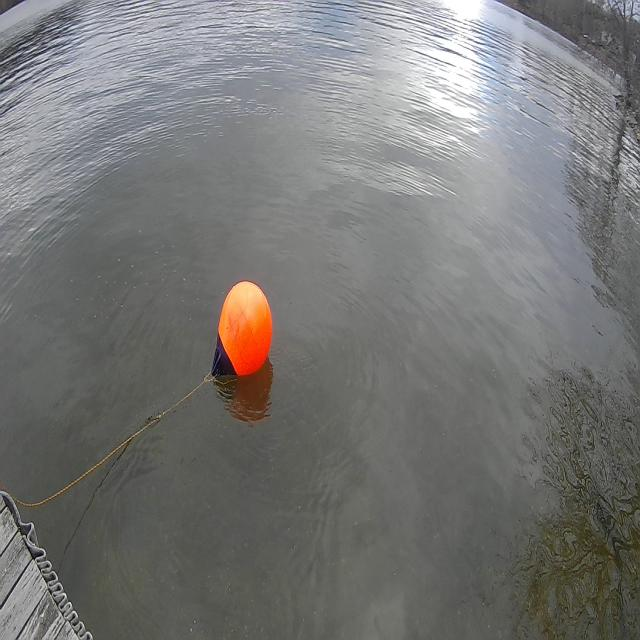Buoy: (217, 275, 274, 380)
